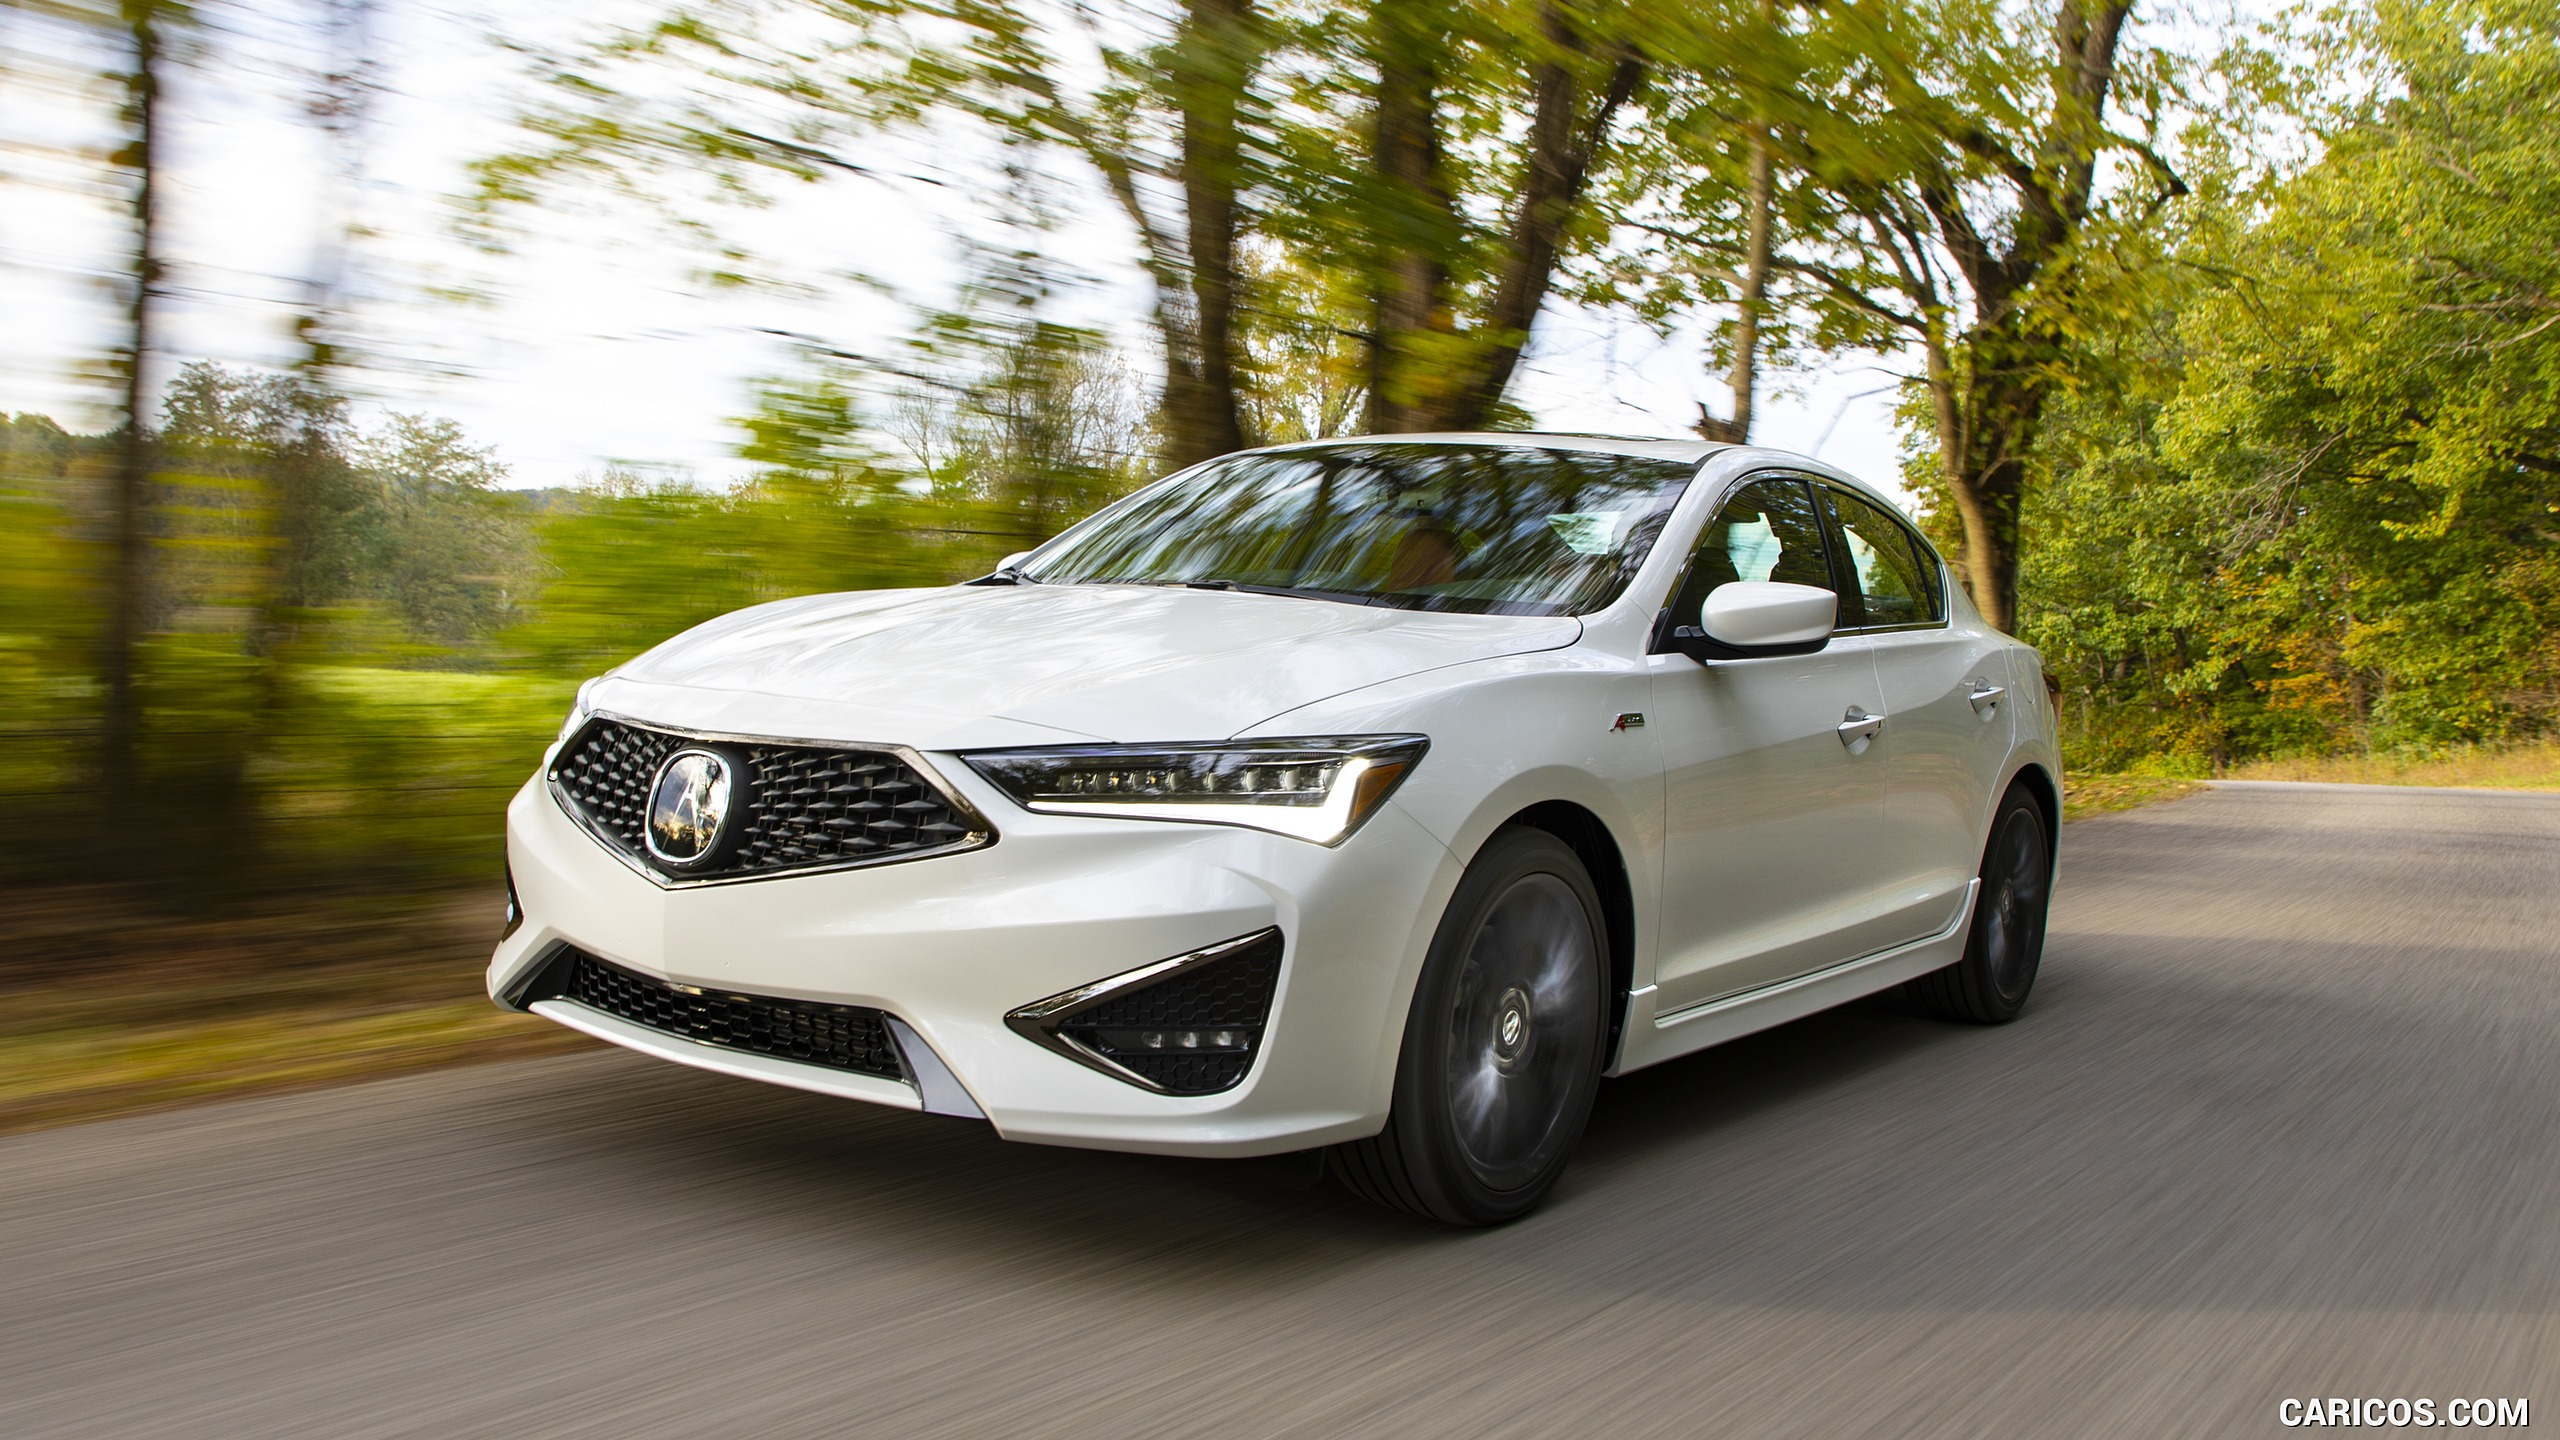Fog Lamp & Scope: (1078, 958, 1276, 1094)
Front: (501, 601, 1596, 1153)
Front Bumper: (485, 840, 1408, 1152)
Grill: (584, 724, 939, 876)
Headlight: (988, 724, 1438, 832)
